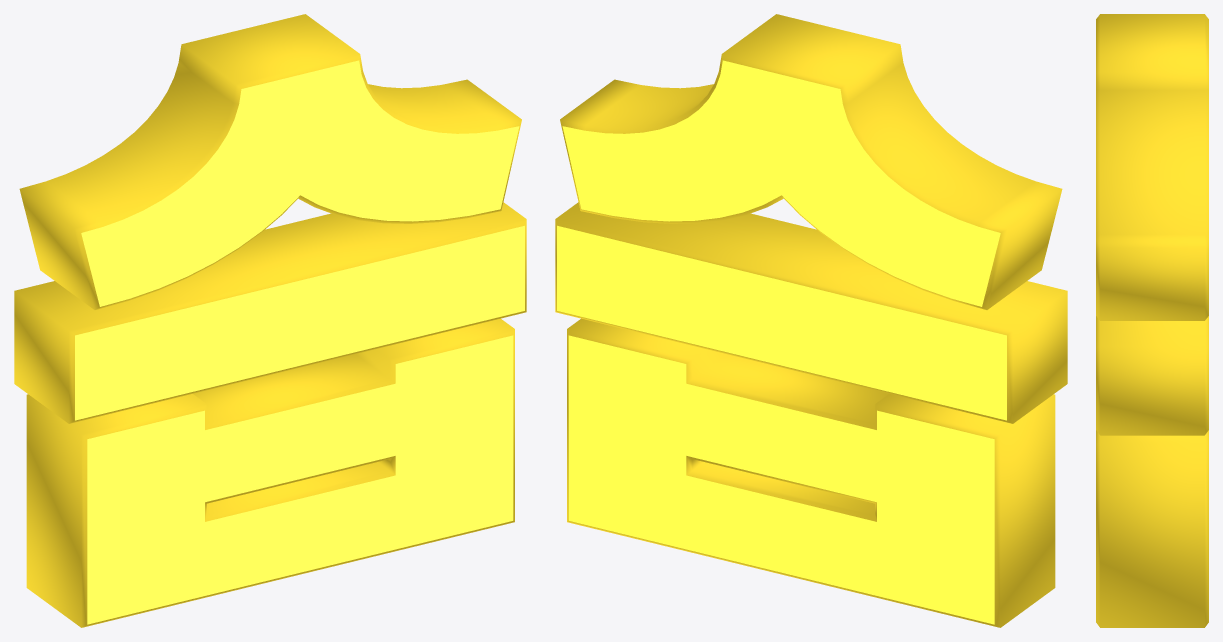
The picture shows the model from 3 angles, left to right: view 1: azimuth 30°, elevation 25°; view 2: azimuth 150°, elevation 25°; view 3: azimuth 270°, elevation 25°; orthographic projection. The views are drawn at different scales.
Visible parts, largest first — view 1: glyph; view 2: glyph; view 3: glyph.
Part boxes in pixels (left/top/right/bottom): glyph: left=14, top=14, right=526, bottom=627; glyph: left=555, top=14, right=1067, bottom=627; glyph: left=1096, top=14, right=1208, bottom=627.
Bounding box in the file's own units: 0.0725 × 0.0766 × 0.0162.
